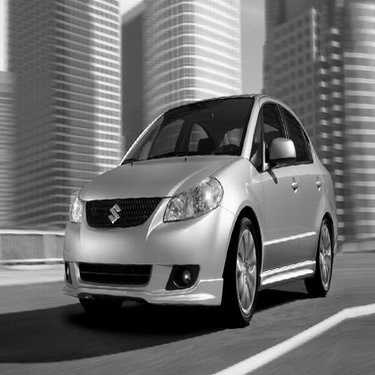car: (43, 84, 363, 310)
